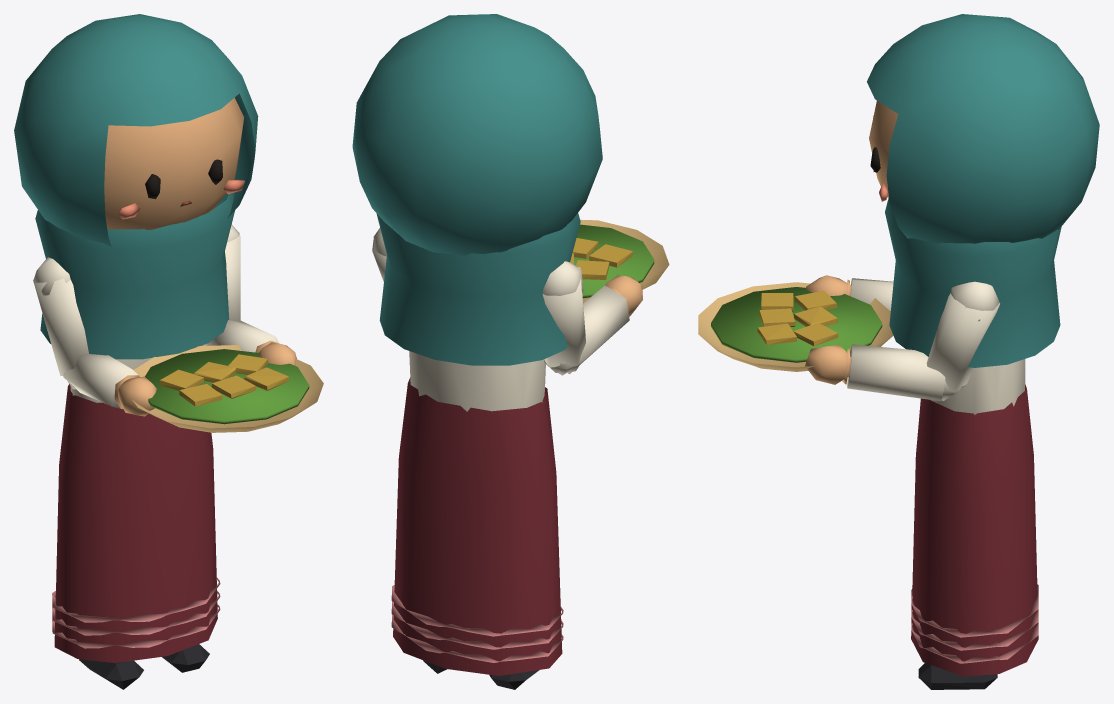
File: south_roti_woman.glb
3 renders of one model, left to right at view 1: azimuth 30°, elevation 25°; view 2: azimuth 150°, elevation 25°; view 3: azimuth 270°, elevation 25°, orthographic. The views are drawn at different scales.
Parts seen in each view (by area): view 1: head, body, prop_roti_tray, arm_R, forearm_R, forearm_L, arm_L, shin_R, shin_L; view 2: head, body, prop_roti_tray, arm_R, forearm_R, shin_R; view 3: head, body, prop_roti_tray, forearm_L, arm_L, forearm_R, shin_L.
Boxes of the visible parts, left/top/right/bottom form: head: left=14, top=14, right=258, bottom=359; body: left=52, top=345, right=220, bottom=662; prop_roti_tray: left=132, top=345, right=323, bottom=432; arm_R: left=33, top=257, right=88, bottom=375; forearm_R: left=63, top=354, right=156, bottom=416; forearm_L: left=202, top=319, right=296, bottom=365; arm_L: left=225, top=224, right=240, bottom=321; shin_R: left=79, top=659, right=143, bottom=689; shin_L: left=162, top=644, right=209, bottom=672; head: left=352, top=14, right=602, bottom=365; body: left=391, top=351, right=563, bottom=675; prop_roti_tray: left=570, top=219, right=669, bottom=302; arm_R: left=542, top=261, right=585, bottom=375; forearm_R: left=544, top=275, right=642, bottom=374; shin_R: left=489, top=670, right=539, bottom=689; head: left=867, top=14, right=1099, bottom=367; body: left=911, top=359, right=1038, bottom=676; prop_roti_tray: left=698, top=282, right=893, bottom=371; forearm_L: left=805, top=344, right=963, bottom=401; arm_L: left=926, top=281, right=999, bottom=400; forearm_R: left=806, top=275, right=893, bottom=310; shin_L: left=918, top=663, right=997, bottom=689.
Bounding box in the file's own units: 0.5195 × 1.49 × 0.8353.
